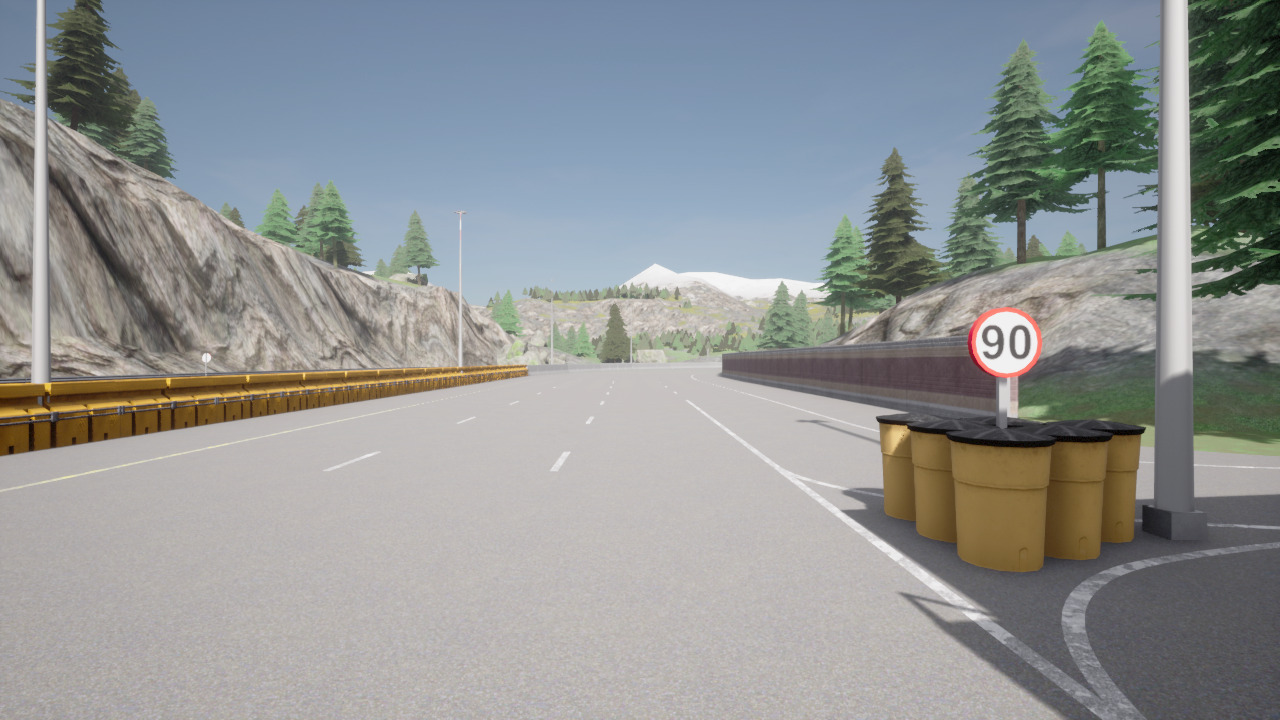sl90: (966, 306, 1045, 379)
